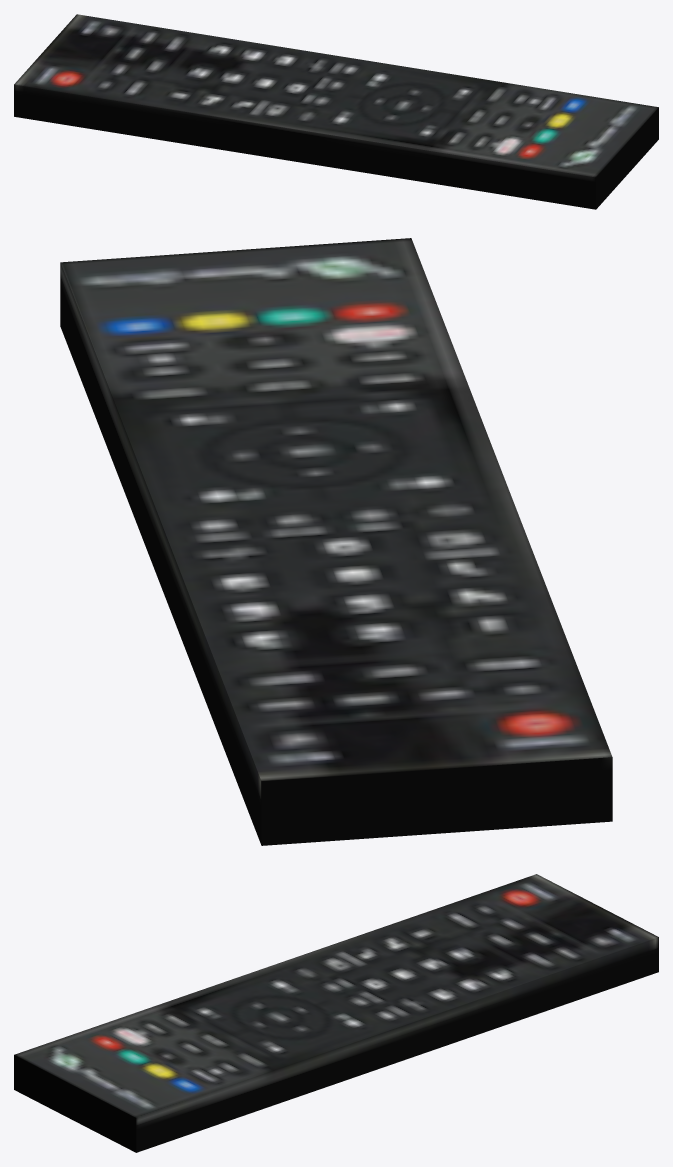
File: Remote_Text.fbx
The picture shows the model from 3 angles, top to bottom: view 1: azimuth 30°, elevation 25°; view 2: azimuth 150°, elevation 25°; view 3: azimuth 270°, elevation 25°; orthographic projection. The views are drawn at different scales.
Visible parts, largest first — view 1: Télécommande; view 2: Télécommande; view 3: Télécommande.
Part boxes in pixels (x1,y1,x2,y2): Télécommande: (14,14,658,209); Télécommande: (60,238,612,845); Télécommande: (14,874,658,1152).
Size of the model in its own units: 29.91 by 2 by 33.42.
1 material, 1 textured.
